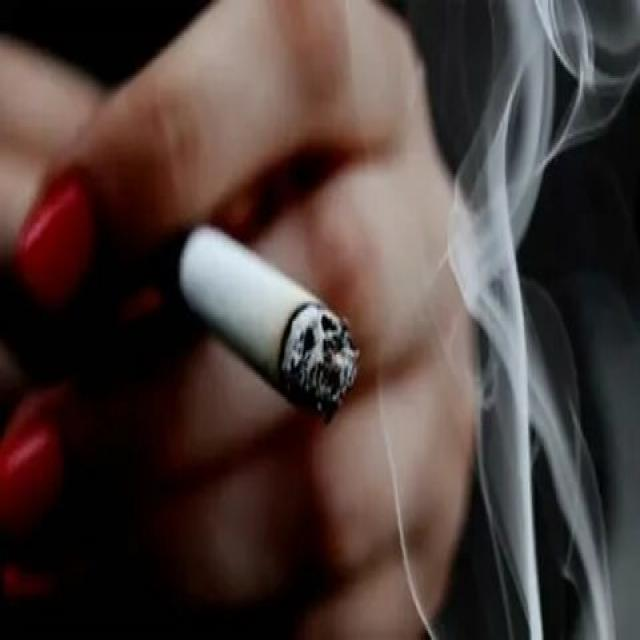cigarette: (155, 201, 360, 428)
